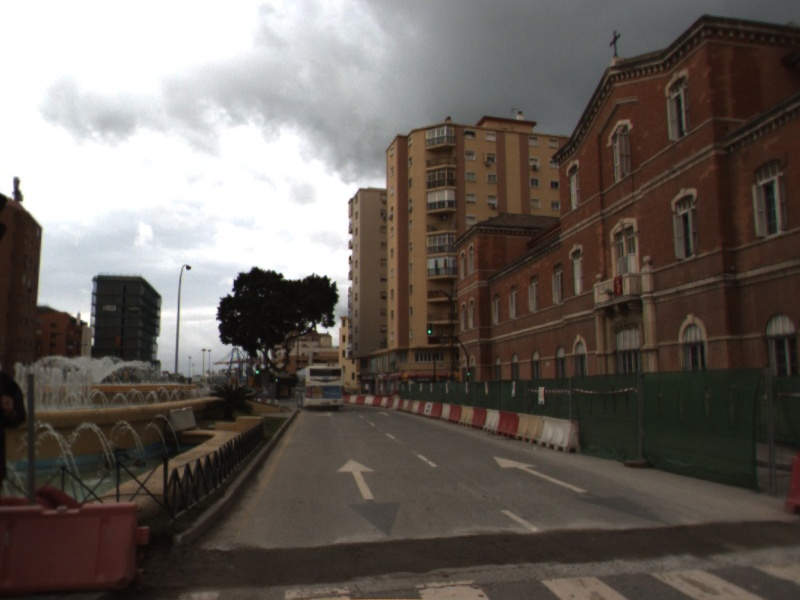STRAIGHT: (491, 454, 591, 494), (335, 457, 378, 501)
